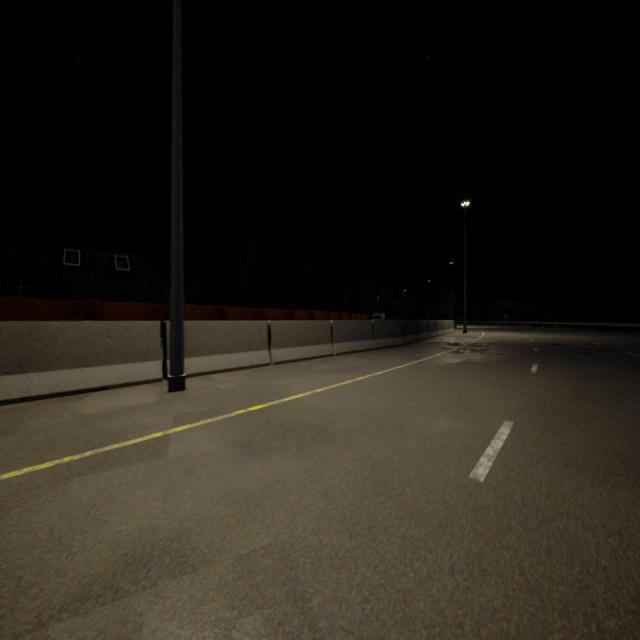Traffic_Signs: (505, 315, 507, 318)
